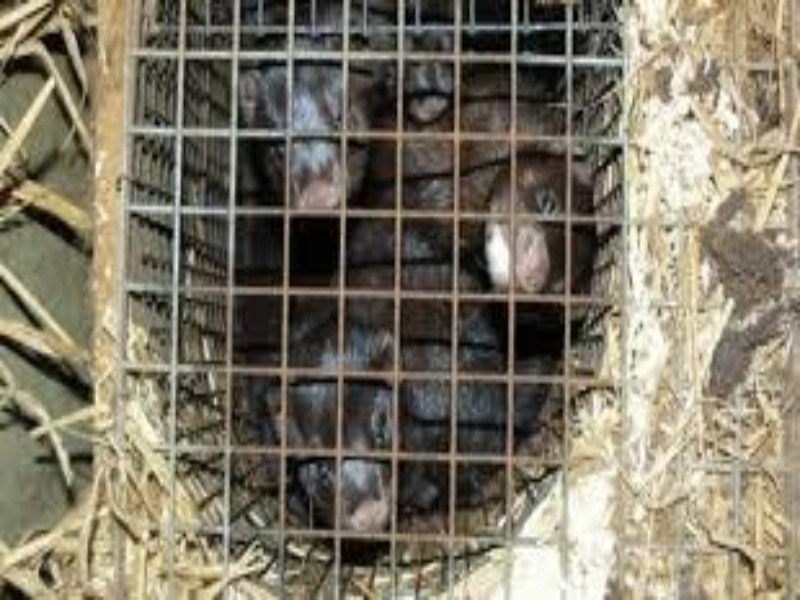minkish: (261, 214, 571, 539), (396, 54, 599, 314), (239, 39, 393, 221)
